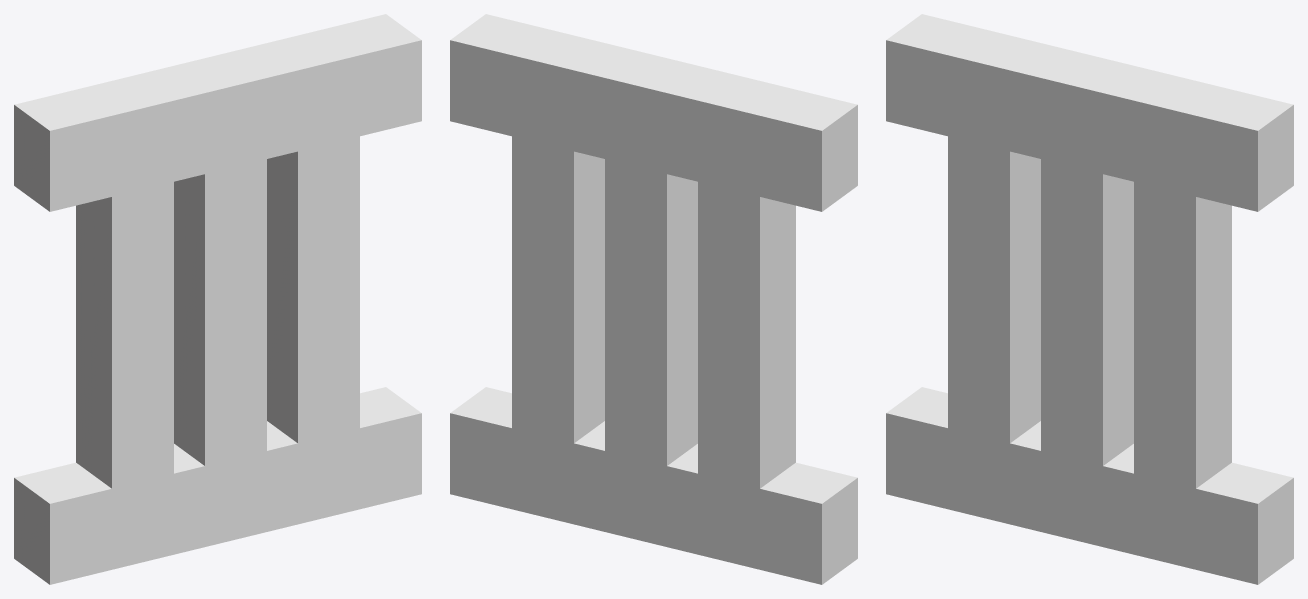
Rendered from chapter_three_number.obj.
3 views of the same model, side by side, from view 1: azimuth 30°, elevation 25°; view 2: azimuth 150°, elevation 25°; view 3: azimuth 330°, elevation 25° (orthographic).
Bounding box in the file's own units: 2.4 × 2.8 × 0.4.
Materials: 1 (1 with a texture image).
